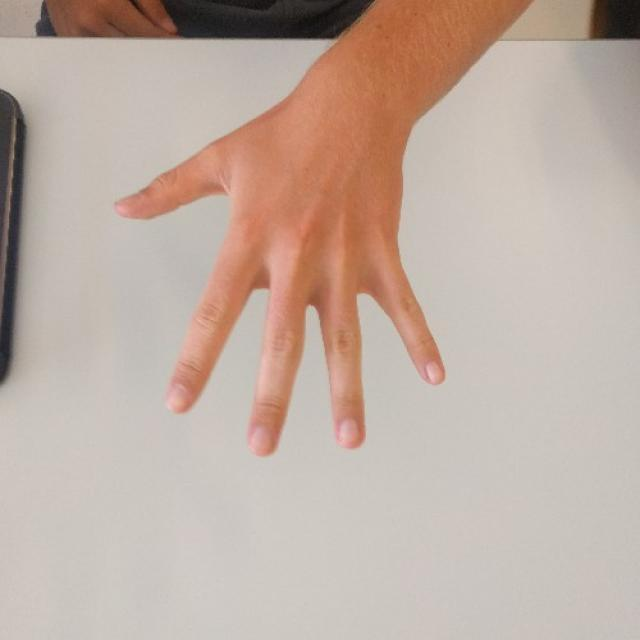paper: (113, 132, 447, 454)
